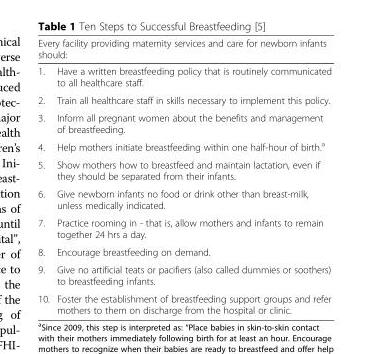table: (37, 37, 331, 315)
table column: (52, 37, 331, 315), (37, 37, 52, 315)
table column header: (37, 37, 331, 91)
table row: (37, 62, 331, 91), (37, 155, 331, 184), (37, 184, 331, 213), (37, 213, 331, 242), (37, 260, 331, 289), (37, 108, 331, 136), (37, 289, 331, 315), (37, 37, 331, 62), (37, 136, 331, 155), (37, 242, 331, 260), (37, 91, 331, 108)
table spanning cell: (37, 37, 331, 62)
